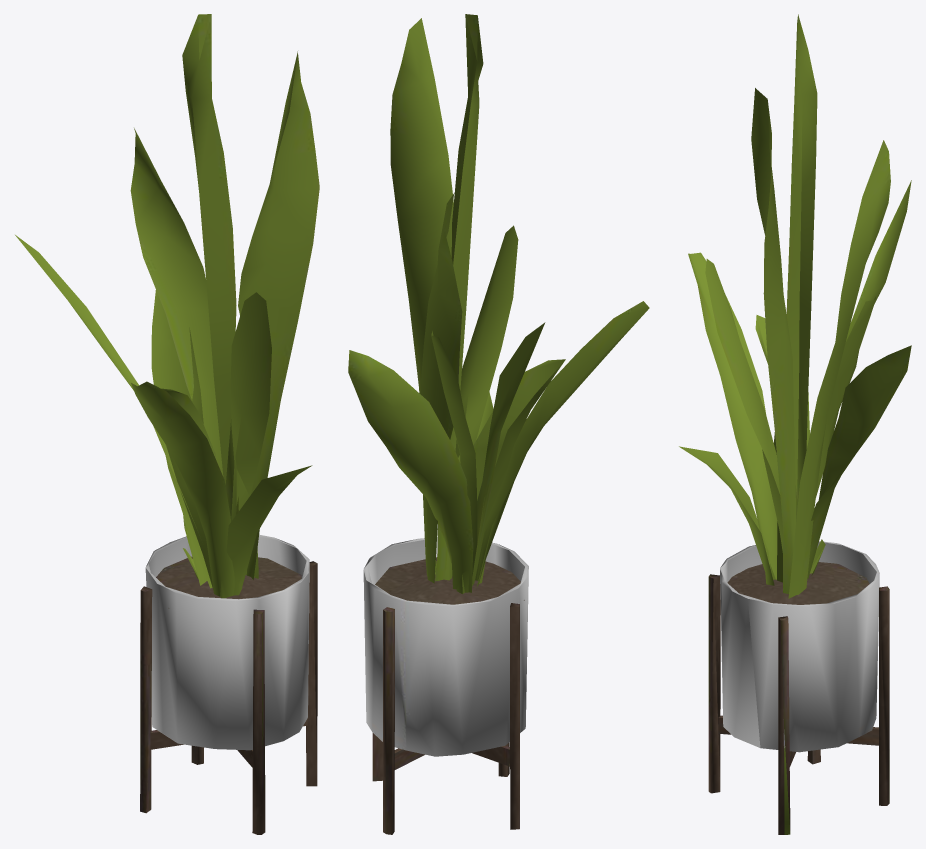
Rendered from Plant0001.obj.
3 views of the same model, side by side, from view 1: azimuth 30°, elevation 25°; view 2: azimuth 150°, elevation 25°; view 3: azimuth 270°, elevation 25° (orthographic). The views are drawn at different scales.
Bounding box in the file's own units: 0.551 × 1.76 × 0.483.
1 material, 1 textured.
